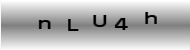4: (114, 17, 128, 31)
L: (67, 18, 79, 32)
U: (92, 13, 107, 28)
h: (143, 10, 158, 25)
n: (37, 19, 52, 29)
